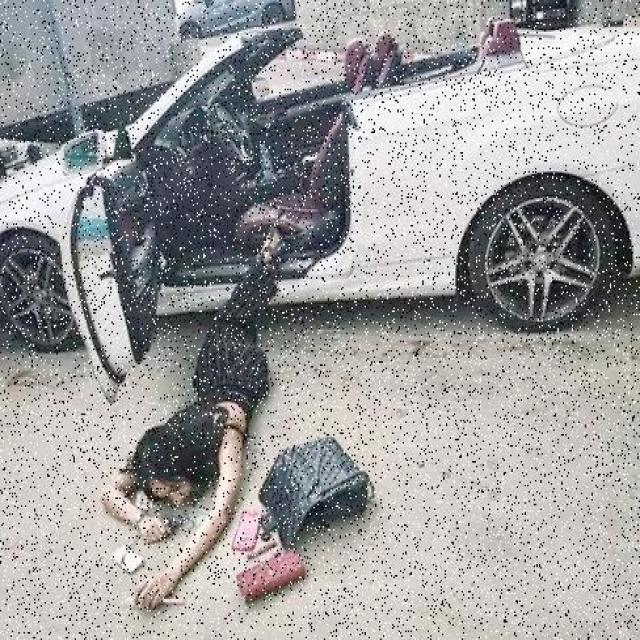fall: (114, 228, 265, 540)
